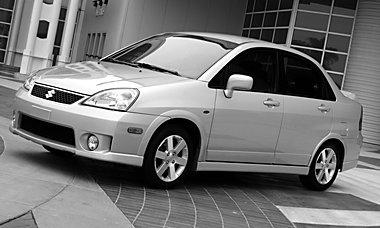car: (10, 30, 367, 191)
